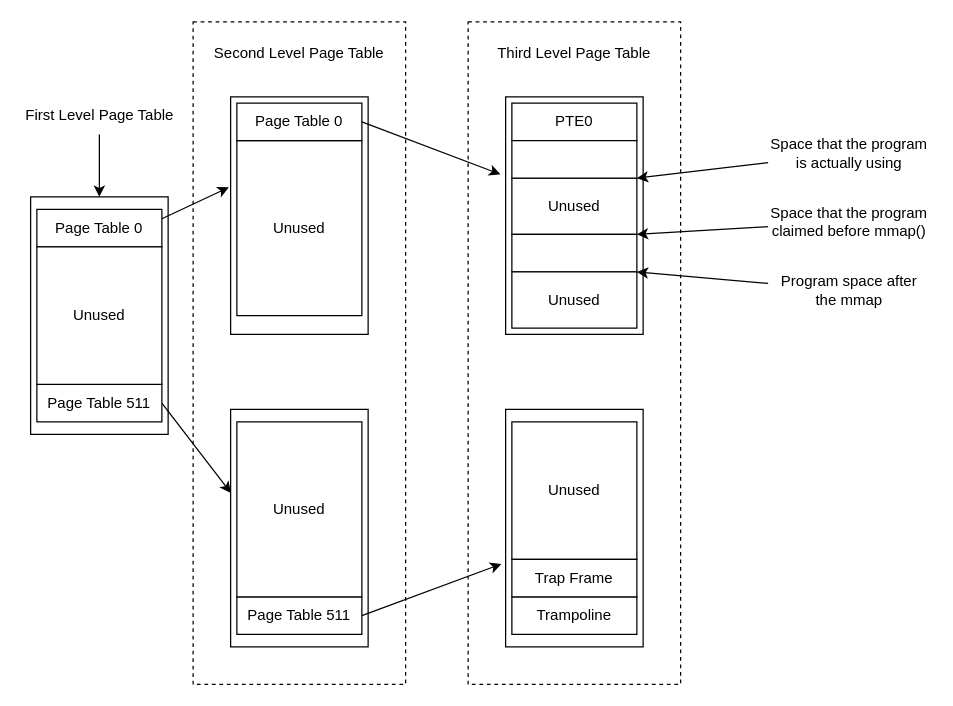
Image size: 953x706. Some labels were removed from this diagram. Here are the shapes that lost their labels. From the top down, the centre of each, then its label:
At point 574,158: "PTE1".
At point 574,252: "(VMA)PTE13".
